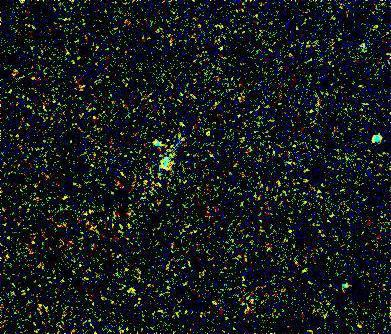star: (120, 275, 150, 305)
